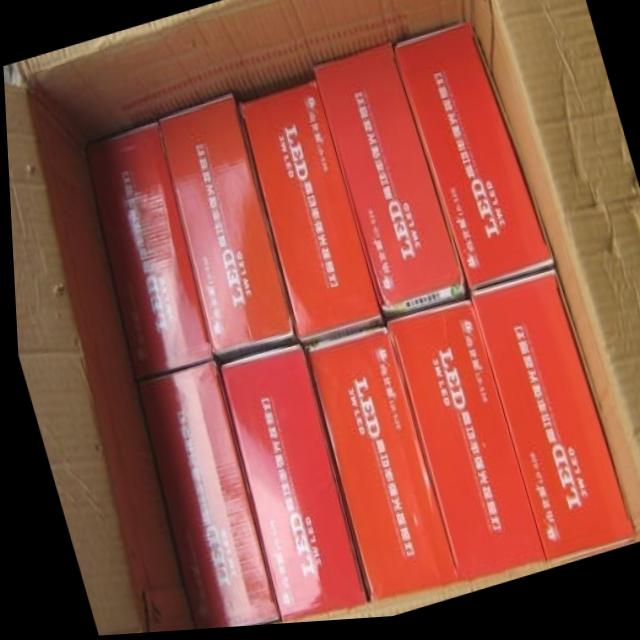box: (465, 275, 631, 567), (383, 310, 540, 589), (391, 29, 550, 298), (300, 331, 453, 605), (214, 347, 363, 626), (312, 49, 464, 319), (239, 83, 380, 348), (157, 98, 294, 368), (133, 367, 272, 632), (85, 126, 210, 383)
